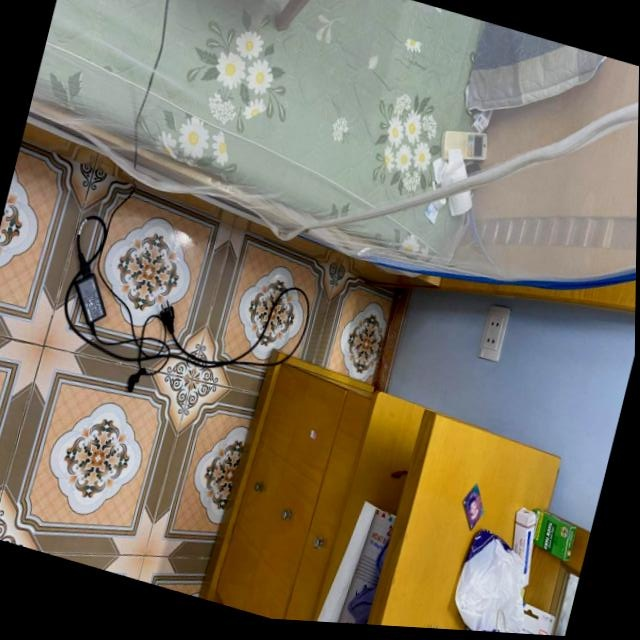outlet: (477, 300, 513, 364)
